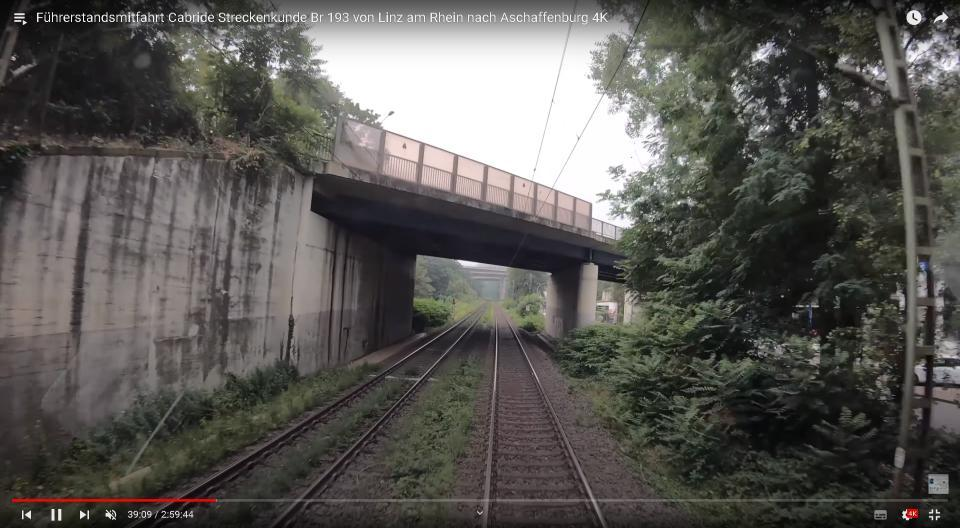Plant: (57, 366, 374, 495), (218, 368, 412, 498), (381, 357, 481, 498), (390, 504, 450, 528), (211, 504, 270, 526)
